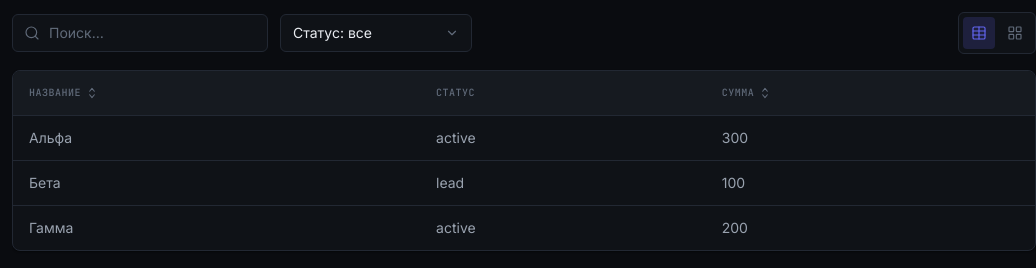
it: DataTable component › переключается в режим карточек
Click the radio button named "Карточки" at {"x": 1015, "y": 33}, box [999,17,1031,49]
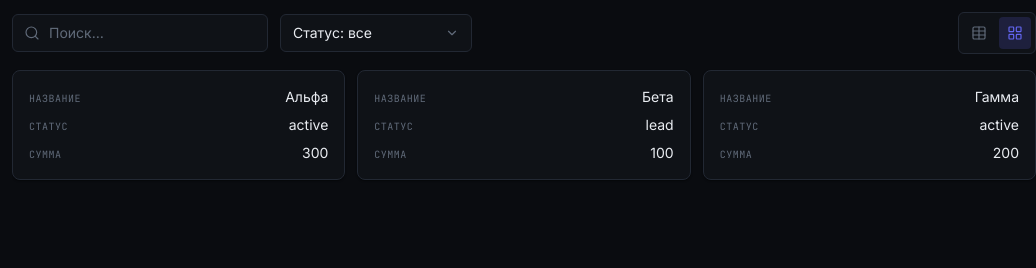
Expected: the text "Альфа" is shown, [285,87,328,107]
Now the table is gone
